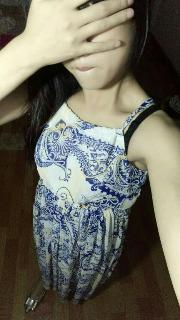sling: (33, 76, 156, 305)
